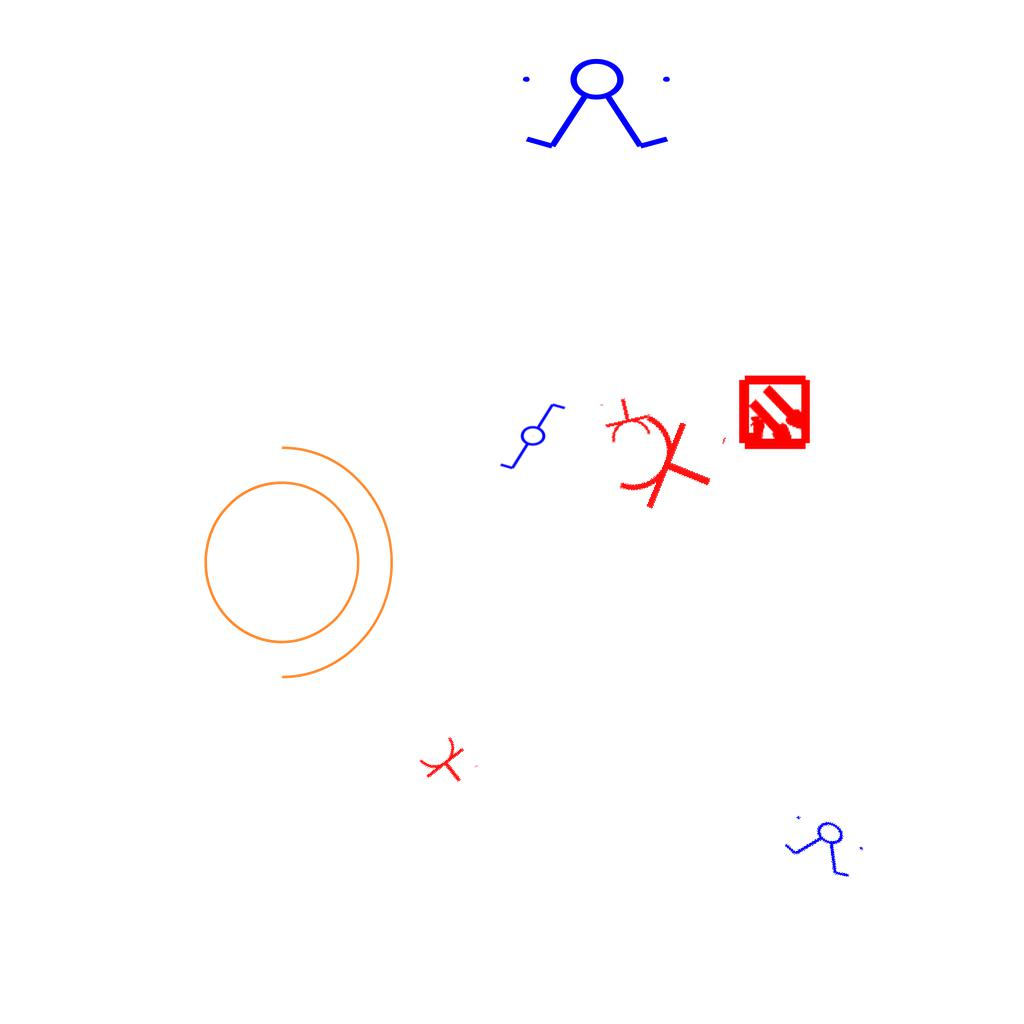OT_Multisensormelder_(Kombination_RMO_WMD): (718, 358, 831, 471)
Scheinwerfer_fuer_Alarmbeleuchtung: (179, 424, 404, 688)
Schukosteckdose_einfach: (612, 402, 731, 528), (414, 731, 481, 797), (597, 392, 656, 446)
Serienschalter: (514, 57, 682, 153), (776, 805, 874, 885)
Wechselschalter: (498, 401, 576, 473)
